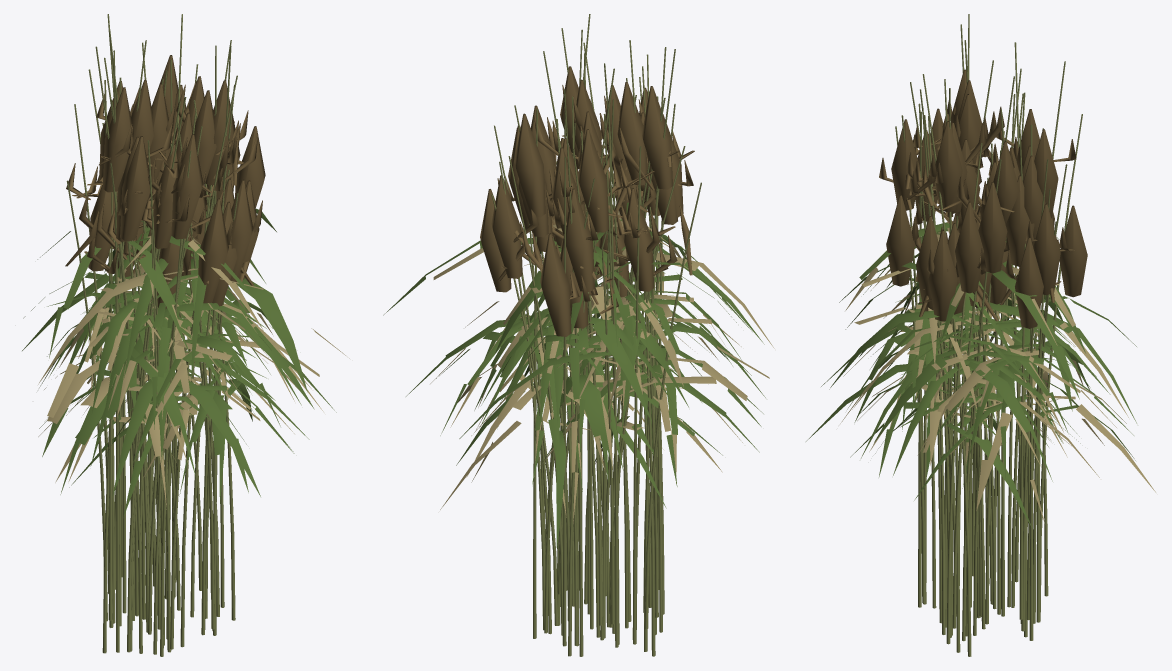
The model's file is vegetation_05.glb.
3 views of the same model, side by side, from view 1: azimuth 30°, elevation 25°; view 2: azimuth 150°, elevation 25°; view 3: azimuth 270°, elevation 25° (orthographic). The views are drawn at different scales.
Visible parts, largest first — view 1: prototype_042, prototype_046, prototype_047, prototype_045, prototype_040, prototype_041, prototype_044, prototype_043; view 2: prototype_046, prototype_042, prototype_043, prototype_040, prototype_044, prototype_047, prototype_045, prototype_041; view 3: prototype_043, prototype_045, prototype_041, prototype_044, prototype_047, prototype_040, prototype_042, prototype_046.
Part boxes in pixels (box(x1,y1,x2,y2)): prototype_042: box(23, 14, 301, 652); prototype_046: box(47, 40, 294, 653); prototype_047: box(22, 64, 349, 649); prototype_045: box(38, 46, 314, 656); prototype_040: box(42, 40, 276, 647); prototype_041: box(91, 57, 309, 632); prototype_044: box(37, 14, 319, 652); prototype_043: box(39, 31, 336, 645); prototype_046: box(440, 40, 769, 656); prototype_042: box(503, 47, 765, 656); prototype_043: box(440, 53, 741, 656); prototype_040: box(383, 28, 761, 640); prototype_044: box(505, 29, 722, 637); prototype_047: box(465, 42, 727, 646); prototype_045: box(406, 14, 774, 644); prototype_041: box(478, 98, 736, 638); prototype_043: box(839, 42, 1133, 641); prototype_045: box(859, 74, 1079, 656); prototype_041: box(845, 68, 1090, 640); prototype_044: box(861, 60, 1135, 652); prototype_047: box(821, 94, 1110, 634); prototype_040: box(806, 88, 1136, 635); prototype_042: box(847, 24, 1136, 620); prototype_046: box(863, 14, 1155, 616).
Size of the model in its own units: 1.78 by 3.26 by 1.77.
